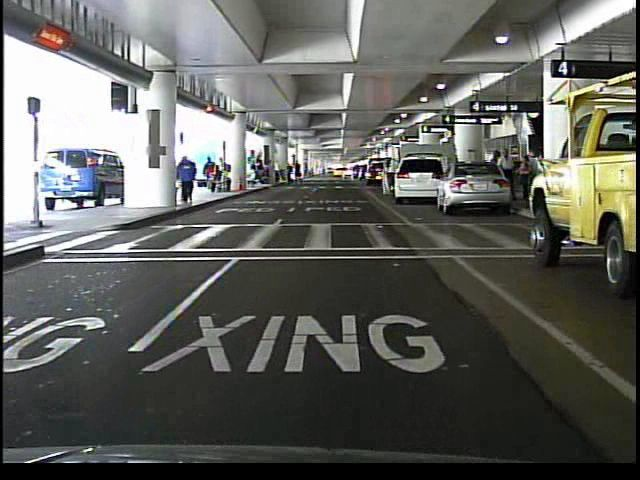person: (175, 152, 200, 206)
